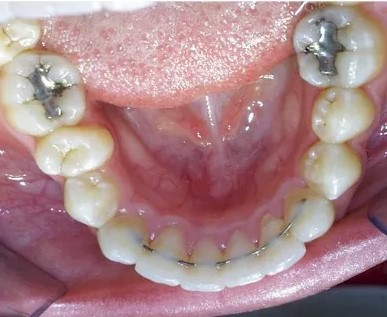LL1BC_healthy: (300, 146, 363, 193)
LL1M_decay: (298, 12, 382, 85)
LL2BC_decay: (318, 90, 372, 137)
LLCI_decay: (223, 234, 264, 286)
LLC_decay: (284, 187, 334, 238)
LLLI_decay: (262, 215, 304, 271)
LR1BC_healthy: (67, 178, 114, 225)
LR1M_decay: (9, 56, 80, 129)
LR2BC_healthy: (39, 131, 109, 172)
LRCI_decay: (184, 246, 222, 292)
LRC_decay: (99, 211, 146, 265)
LRLI_decay: (147, 228, 184, 285)
